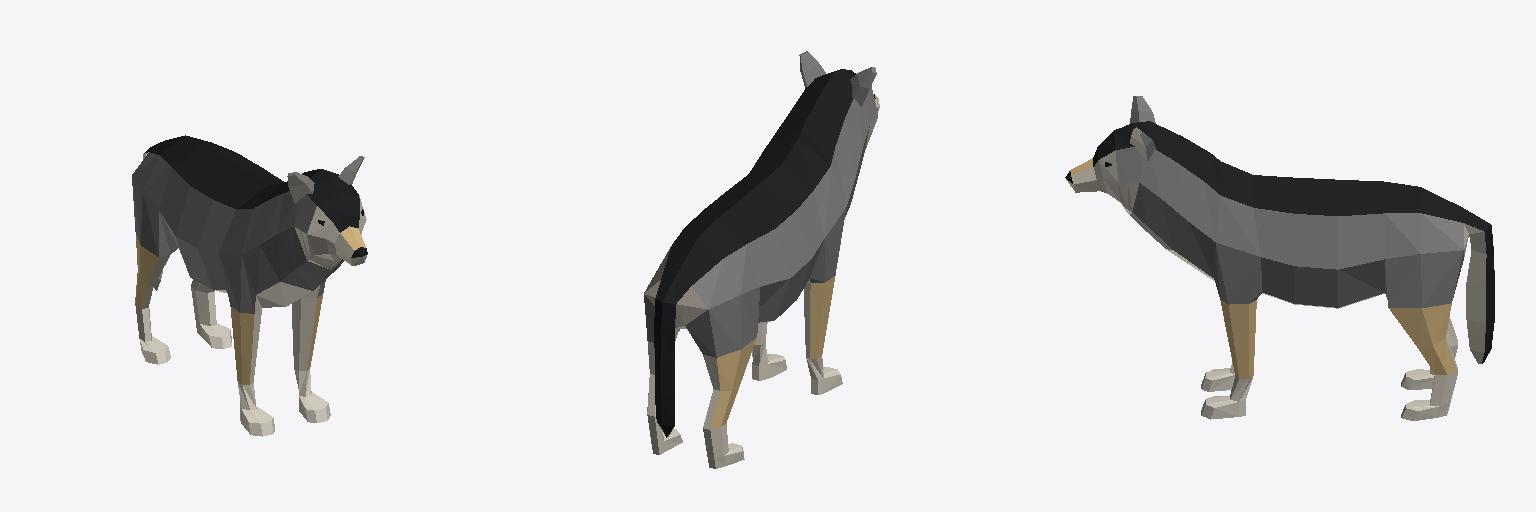
The picture shows the model from 3 angles: view 1: azimuth 30°, elevation 25°; view 2: azimuth 150°, elevation 25°; view 3: azimuth 270°, elevation 25°; orthographic projection.
Visible parts, largest first — view 1: Geo_Wolf; view 2: Geo_Wolf; view 3: Geo_Wolf.
Part boxes in pixels (x1,y1,x2,y2): Geo_Wolf: (132, 135, 367, 436); Geo_Wolf: (644, 51, 879, 468); Geo_Wolf: (1065, 96, 1494, 420).
Size of the model in its own units: 50.03 by 134 by 180.
Materials: 1 (1 with a texture image).